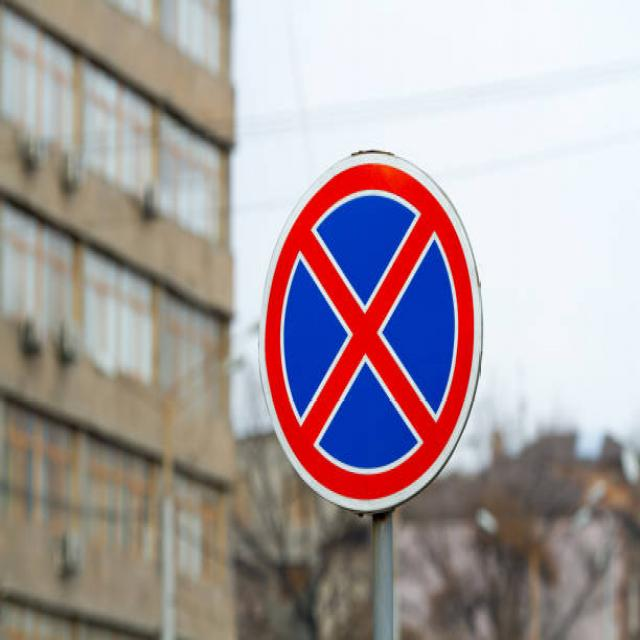no_parking: (256, 138, 478, 518)
